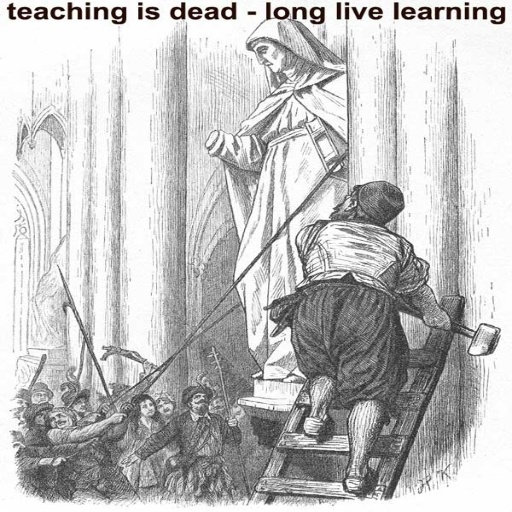hand: (422, 307, 453, 332), (120, 453, 144, 465), (110, 410, 128, 425), (223, 417, 238, 429), (52, 456, 64, 467), (141, 359, 151, 371), (100, 402, 107, 414)
